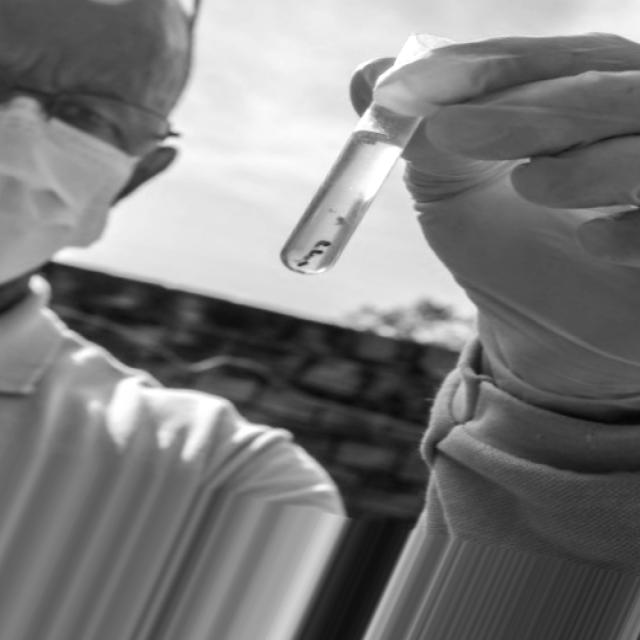larvas: (305, 247, 323, 259), (292, 258, 307, 268), (338, 216, 348, 229), (316, 239, 331, 247)
